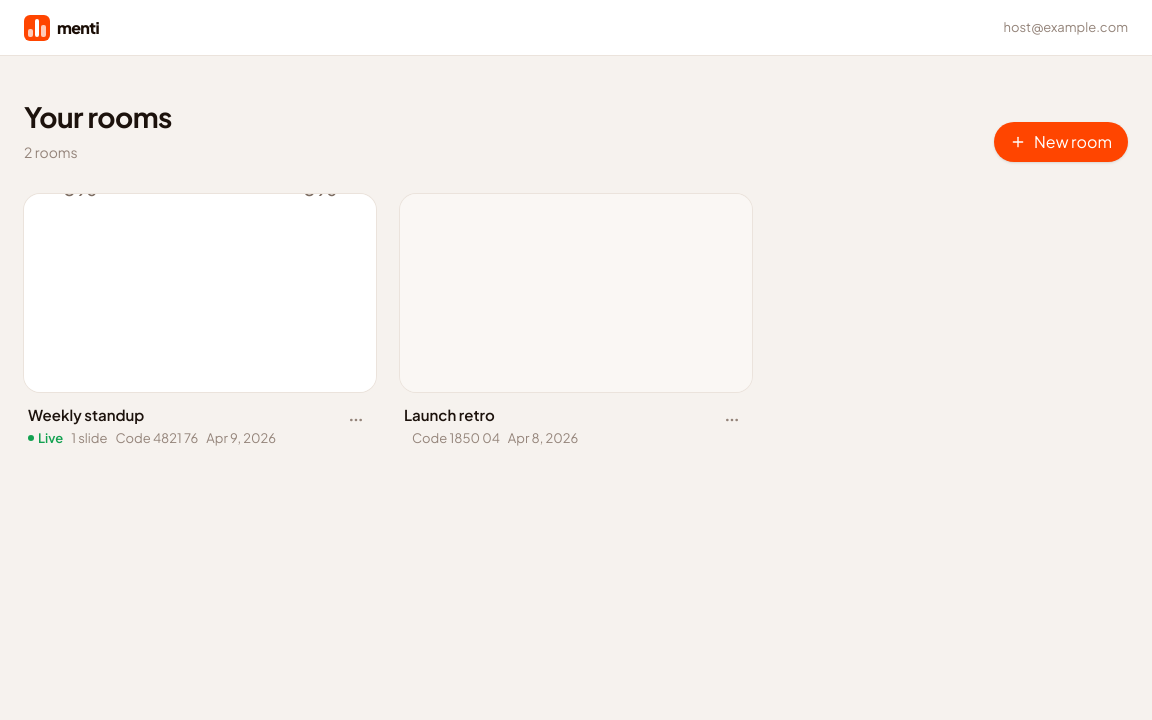
HostDashboard › deletes a room after confirmation
Expected: the text "Code 4821 76" is shown, x1=116 y1=428 x2=198 y2=448
Step 1. Click the button named "more actions for weekly standup" → click(356, 420), box x1=340 y1=404 x2=372 y2=436
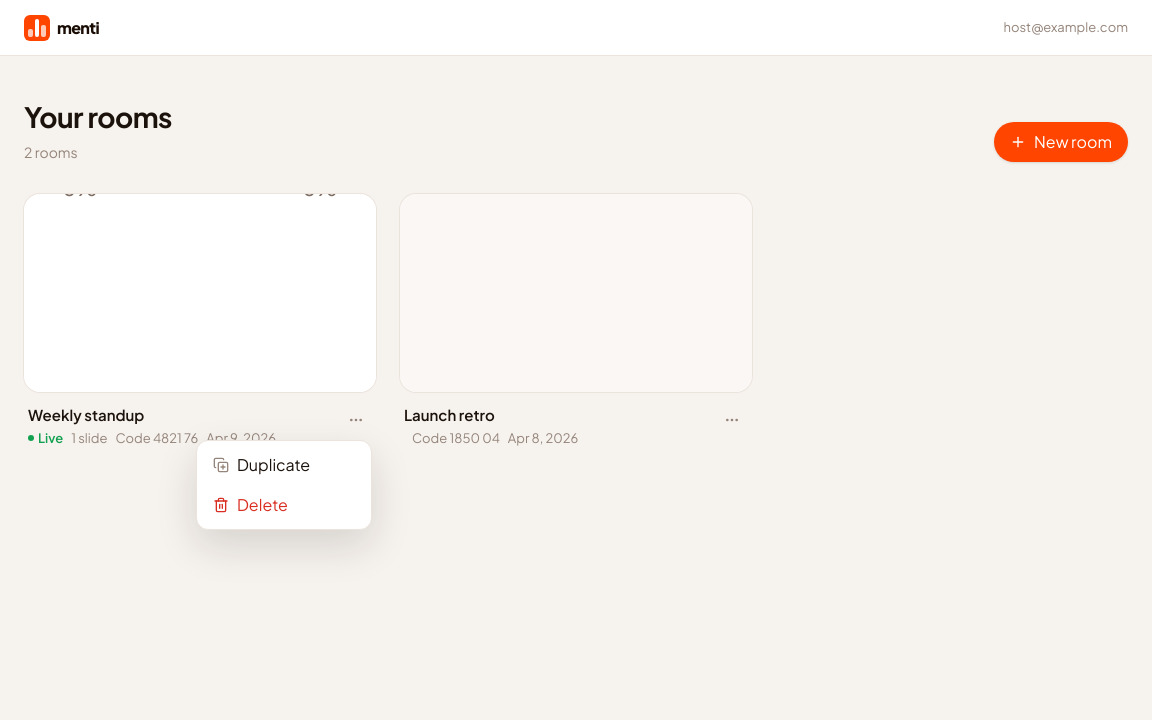
Step 2. Click the button "Delete" → click(284, 505), box x1=201 y1=485 x2=367 y2=525
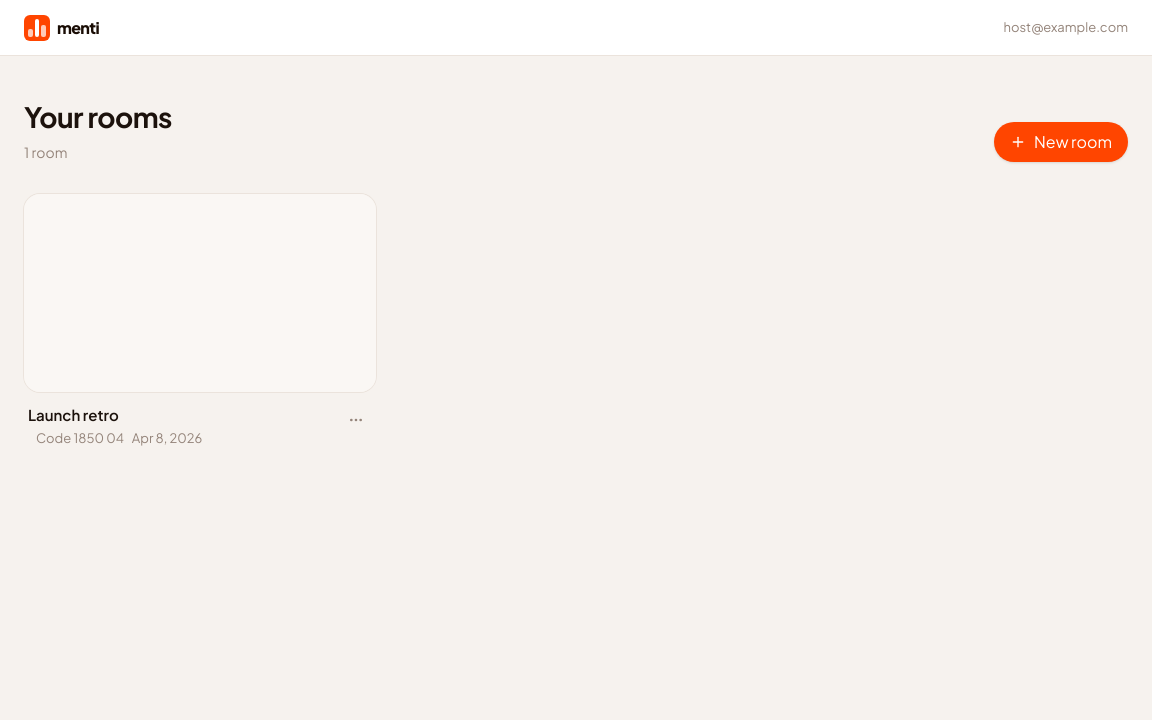
Result: the text "Code 4821 76" is gone
